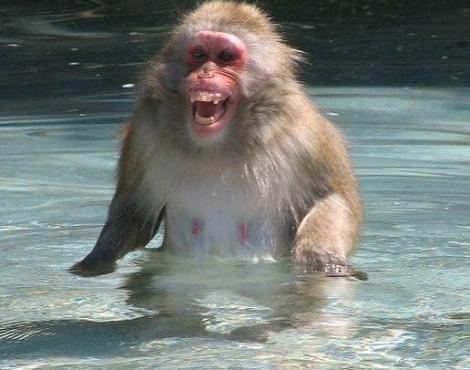monkey: (69, 2, 365, 279)
